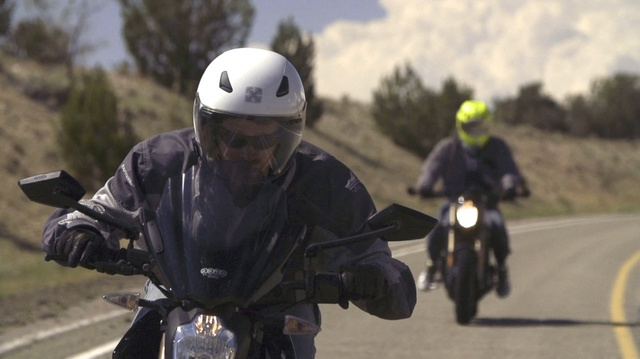helmet: (187, 52, 311, 175), (456, 102, 496, 140)
